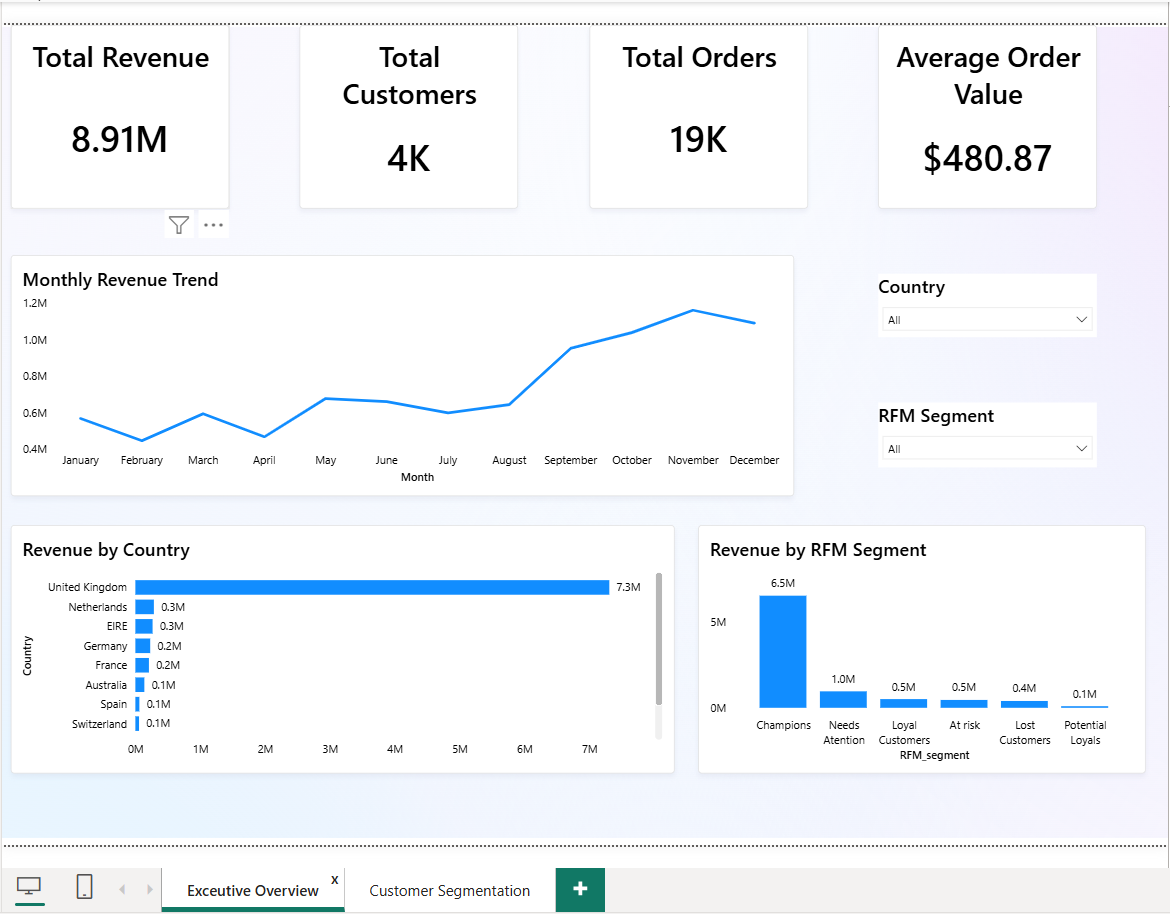

This screenshot's page, from the dashboard's own definition file:
{"tool":"powerbi","page":{"name":"Exceutive Overview","canvas":[1280,900],"ordinal":0},"visuals":[{"type":"card","title":"Total Revenue","fields":{"Values":["cleaned_transactions.Total Revenue"]},"box":[9.6,0,240.1,201.7],"z":0},{"type":"card","title":"Total Customers","fields":{"Values":["cleaned_transactions.Total Customers"]},"box":[327,0,240.1,201.7],"z":1000},{"type":"card","title":"Total Orders","fields":{"Values":["cleaned_transactions.Total Orders"]},"box":[644.5,0,240.1,201.7],"z":2000},{"type":"card","title":"Average Order Value","fields":{"Values":["cleaned_transactions.Average Order Value"]},"box":[961.9,0,240.1,201.7],"z":3000},{"type":"lineChart","title":"Monthly Revenue Trend","fields":{"Category":["cleaned_transactions.InvoiceDate.Variation.Date Hierarchy.Month"],"Y":["cleaned_transactions.Total Revenue"]},"box":[9.6,252.5,860.4,264.8],"z":4000},{"type":"clusteredBarChart","title":"Revenue by Country","fields":{"Category":["cleaned_transactions.Country"],"Y":["cleaned_transactions.Total Revenue"]},"box":[9.6,548.9,728.6,273.1],"z":5000},{"type":"clusteredColumnChart","title":"Revenue by RFM Segment","fields":{"Category":["customer_rfm_clv.RFM_segment"],"Y":["cleaned_transactions.Total Revenue"]},"box":[764.3,548.9,491.3,273.1],"z":6000},{"type":"slicer","title":"Country","fields":{"Values":["cleaned_transactions.Country"]},"box":[961.9,273.1,240.1,70],"z":7000},{"type":"slicer","title":"RFM Segment","fields":{"Values":["customer_rfm_clv.RFM_segment"]},"box":[961.9,414.4,240.1,71.4],"z":8000}]}

Visuals, with their boxes on the page's 1280x900 design canvas (x1, y1, x2, y2). These are canvas units, not pixel positions in the 1170x914 screenshot, which may show the page scaled, cropped or inside an application window:
"Total Revenue" card: x1=10 y1=0 x2=250 y2=202
"Total Customers" card: x1=327 y1=0 x2=567 y2=202
"Total Orders" card: x1=644 y1=0 x2=885 y2=202
"Average Order Value" card: x1=962 y1=0 x2=1202 y2=202
"Monthly Revenue Trend" lineChart: x1=10 y1=252 x2=870 y2=517
"Revenue by Country" clusteredBarChart: x1=10 y1=549 x2=738 y2=822
"Revenue by RFM Segment" clusteredColumnChart: x1=764 y1=549 x2=1256 y2=822
"Country" slicer: x1=962 y1=273 x2=1202 y2=343
"RFM Segment" slicer: x1=962 y1=414 x2=1202 y2=486
